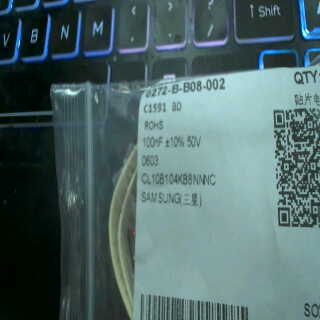100nF: (141, 133, 164, 153)
